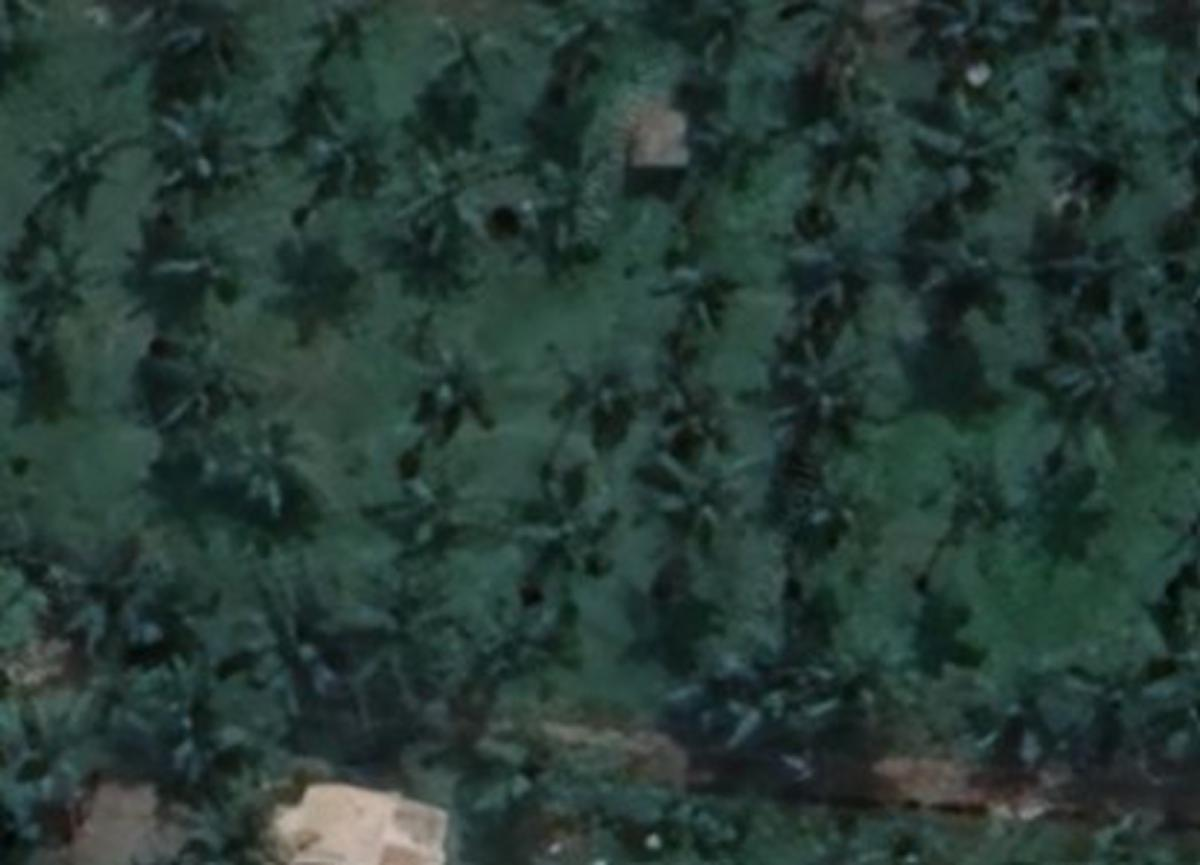coconut: (1036, 314, 1170, 436), (139, 212, 273, 329), (768, 340, 891, 463), (500, 463, 614, 585), (634, 439, 754, 553), (809, 617, 937, 722), (681, 66, 792, 183), (139, 93, 259, 198), (151, 329, 262, 442), (897, 104, 1013, 206), (902, 212, 1007, 314), (218, 410, 329, 506), (291, 93, 390, 198), (1051, 235, 1162, 323), (771, 465, 888, 547), (789, 215, 888, 311), (407, 157, 500, 259), (384, 465, 480, 559), (34, 122, 131, 215), (419, 8, 521, 96), (515, 151, 605, 250), (632, 372, 733, 457), (416, 329, 512, 416), (17, 235, 96, 320), (664, 256, 728, 355)
